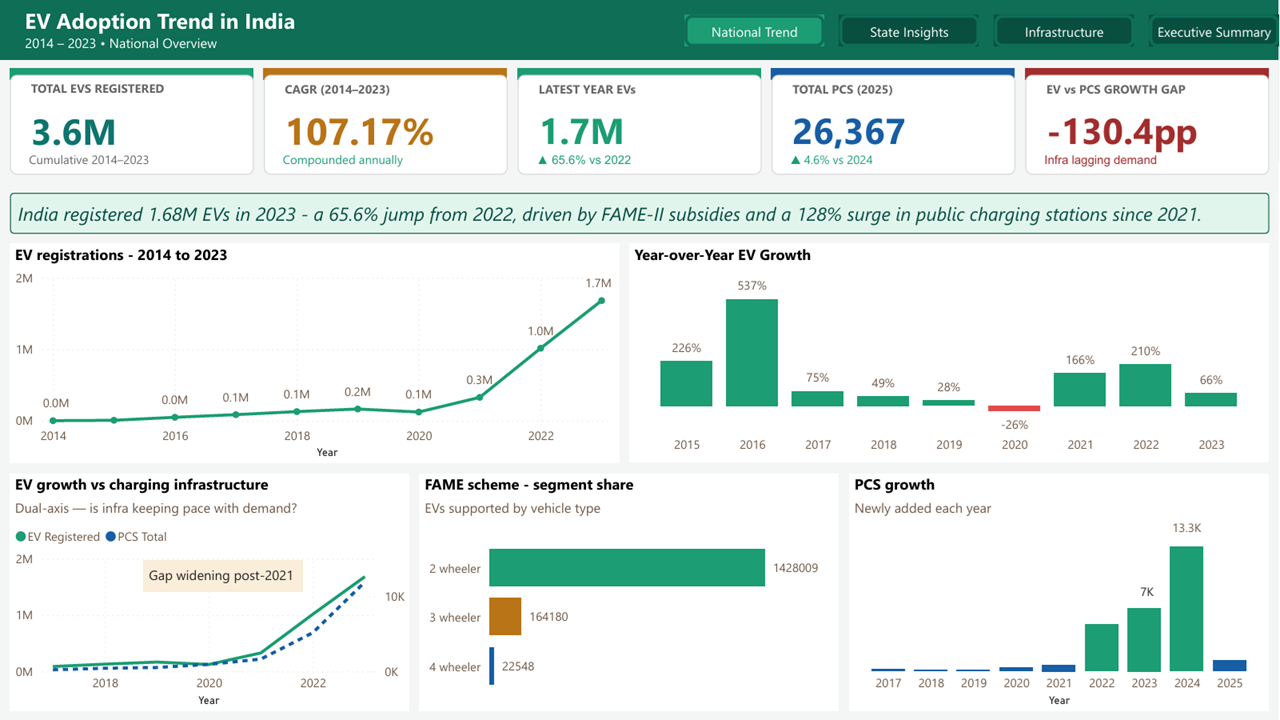

What the dashboard file says about the page in this screenshot:
{"tool":"powerbi","page":{"name":"National Trend","canvas":[1280,720],"ordinal":0},"visuals":[{"type":"shape","box":[0,0,1280,60],"z":0},{"type":"textbox","box":[20,0,872,64],"z":1000},{"type":"actionButton","box":[685,14,140,32],"z":2000},{"type":"actionButton","box":[840,14,140,32],"z":3000},{"type":"actionButton","box":[995,14,140,32],"z":4000},{"type":"actionButton","box":[1150,14,130,32],"z":5000},{"type":"shape","box":[10,68,244,12],"z":6000},{"type":"cardVisual","fields":{"Data":["Year-wise EV Registrations.Total EVs"]},"box":[10,74,244,100],"z":7000},{"type":"textbox","box":[16,144,244,80],"z":8000},{"type":"shape","box":[264,68,244,12],"z":9000},{"type":"cardVisual","fields":{"Data":["Year-wise EV Registrations.EV CAGR %"]},"box":[264,74,244,100],"z":10000},{"type":"textbox","box":[270,144,244,80],"z":11000},{"type":"shape","box":[518,68,244,12],"z":12000},{"type":"cardVisual","fields":{"Data":["Year-wise EV Registrations.Latest Year EVs"]},"box":[518,74,244,100],"z":13000},{"type":"textbox","box":[524,144,244,80],"z":14000},{"type":"shape","box":[772,68,244,12],"z":15000},{"type":"cardVisual","fields":{"Data":["Year-wise EVPCS.Total PCS"]},"box":[772,74,244,100],"z":16000},{"type":"textbox","box":[778,144,244,80],"z":17000},{"type":"shape","box":[1026,68,244,12],"z":18000},{"type":"cardVisual","fields":{"Data":["Year-wise EV Registrations.EV vs PCS Growth Gap Display"]},"box":[1026,74,244,100],"z":19000},{"type":"textbox","box":[1032,144,244,80],"z":20000},{"type":"textbox","box":[10,192,1260,41],"z":21000},{"type":"clusteredColumnChart","title":"Year-over-Year EV Growth ","fields":{"Category":["Year-wise EV Registrations.Year"],"Y":["Year-wise EV Registrations.YoY EV Growth %"]},"box":[630,243,640,219],"z":22000},{"type":"lineChart","title":"EV growth vs charging infrastructure","fields":{"Y":["Year-wise EV Registrations.Total EVs"],"Y2":["Sum(Year-wise EVPCS.PCS_Total)"],"Category":["Date_Dim.Year"]},"box":[10,473,400,237],"z":23000},{"type":"clusteredBarChart","title":"FAME scheme - segment share","fields":{"Category":["Segment-wise EV Support (FAME Scheme).Segment"],"Y":["Sum(Segment-wise EV Support (FAME Scheme).EV_Supported)"]},"box":[420,473,420,237],"z":24000},{"type":"clusteredColumnChart","title":"PCS growth","fields":{"Category":["Year-wise EVPCS.Year"],"Y":["Sum(Year-wise EVPCS.PCS_Newly_Added)"]},"box":[850,473,420,237],"z":25000},{"type":"lineChart","title":"EV registrations - 2014 to 2023","fields":{"Y":["Year-wise EV Registrations.Total EVs"],"Category":["Year-wise EV Registrations.Year"]},"box":[10,243,610,220],"z":26000},{"type":"textbox","box":[144,560,160,32],"z":27000},{"type":"textbox","box":[1168,512,96,48],"z":28000},{"type":"textbox","box":[1136,576,64,32],"z":29000}]}

Visuals, with their boxes in screenshot pixels (x1, y1, x2, y2), scaled from the page's 1280x720 canvas onto the 1280x720 screenshot:
shape: <region>0, 0, 1279, 60</region>
textbox: <region>20, 0, 892, 64</region>
actionButton: <region>685, 14, 825, 46</region>
actionButton: <region>840, 14, 980, 46</region>
actionButton: <region>995, 14, 1135, 46</region>
actionButton: <region>1150, 14, 1279, 46</region>
shape: <region>10, 68, 254, 80</region>
cardVisual - Year-wise EV Registrations.Total EVs: <region>10, 74, 254, 174</region>
textbox: <region>16, 144, 260, 224</region>
shape: <region>264, 68, 508, 80</region>
cardVisual - Year-wise EV Registrations.EV CAGR %: <region>264, 74, 508, 174</region>
textbox: <region>270, 144, 514, 224</region>
shape: <region>518, 68, 762, 80</region>
cardVisual - Year-wise EV Registrations.Latest Year EVs: <region>518, 74, 762, 174</region>
textbox: <region>524, 144, 768, 224</region>
shape: <region>772, 68, 1016, 80</region>
cardVisual - Year-wise EVPCS.Total PCS: <region>772, 74, 1016, 174</region>
textbox: <region>778, 144, 1022, 224</region>
shape: <region>1026, 68, 1270, 80</region>
cardVisual - Year-wise EV Registrations.EV vs PCS Growth Gap Display: <region>1026, 74, 1270, 174</region>
textbox: <region>1032, 144, 1276, 224</region>
textbox: <region>10, 192, 1270, 233</region>
"Year-over-Year EV Growth " clusteredColumnChart: <region>630, 243, 1270, 462</region>
"EV growth vs charging infrastructure" lineChart: <region>10, 473, 410, 710</region>
"FAME scheme - segment share" clusteredBarChart: <region>420, 473, 840, 710</region>
"PCS growth" clusteredColumnChart: <region>850, 473, 1270, 710</region>
"EV registrations - 2014 to 2023" lineChart: <region>10, 243, 620, 463</region>
textbox: <region>144, 560, 304, 592</region>
textbox: <region>1168, 512, 1264, 560</region>
textbox: <region>1136, 576, 1200, 608</region>
